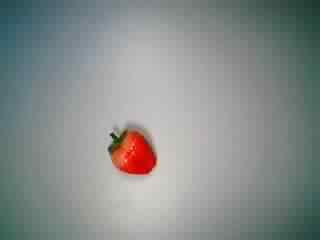strawberry: (94, 121, 160, 183)
